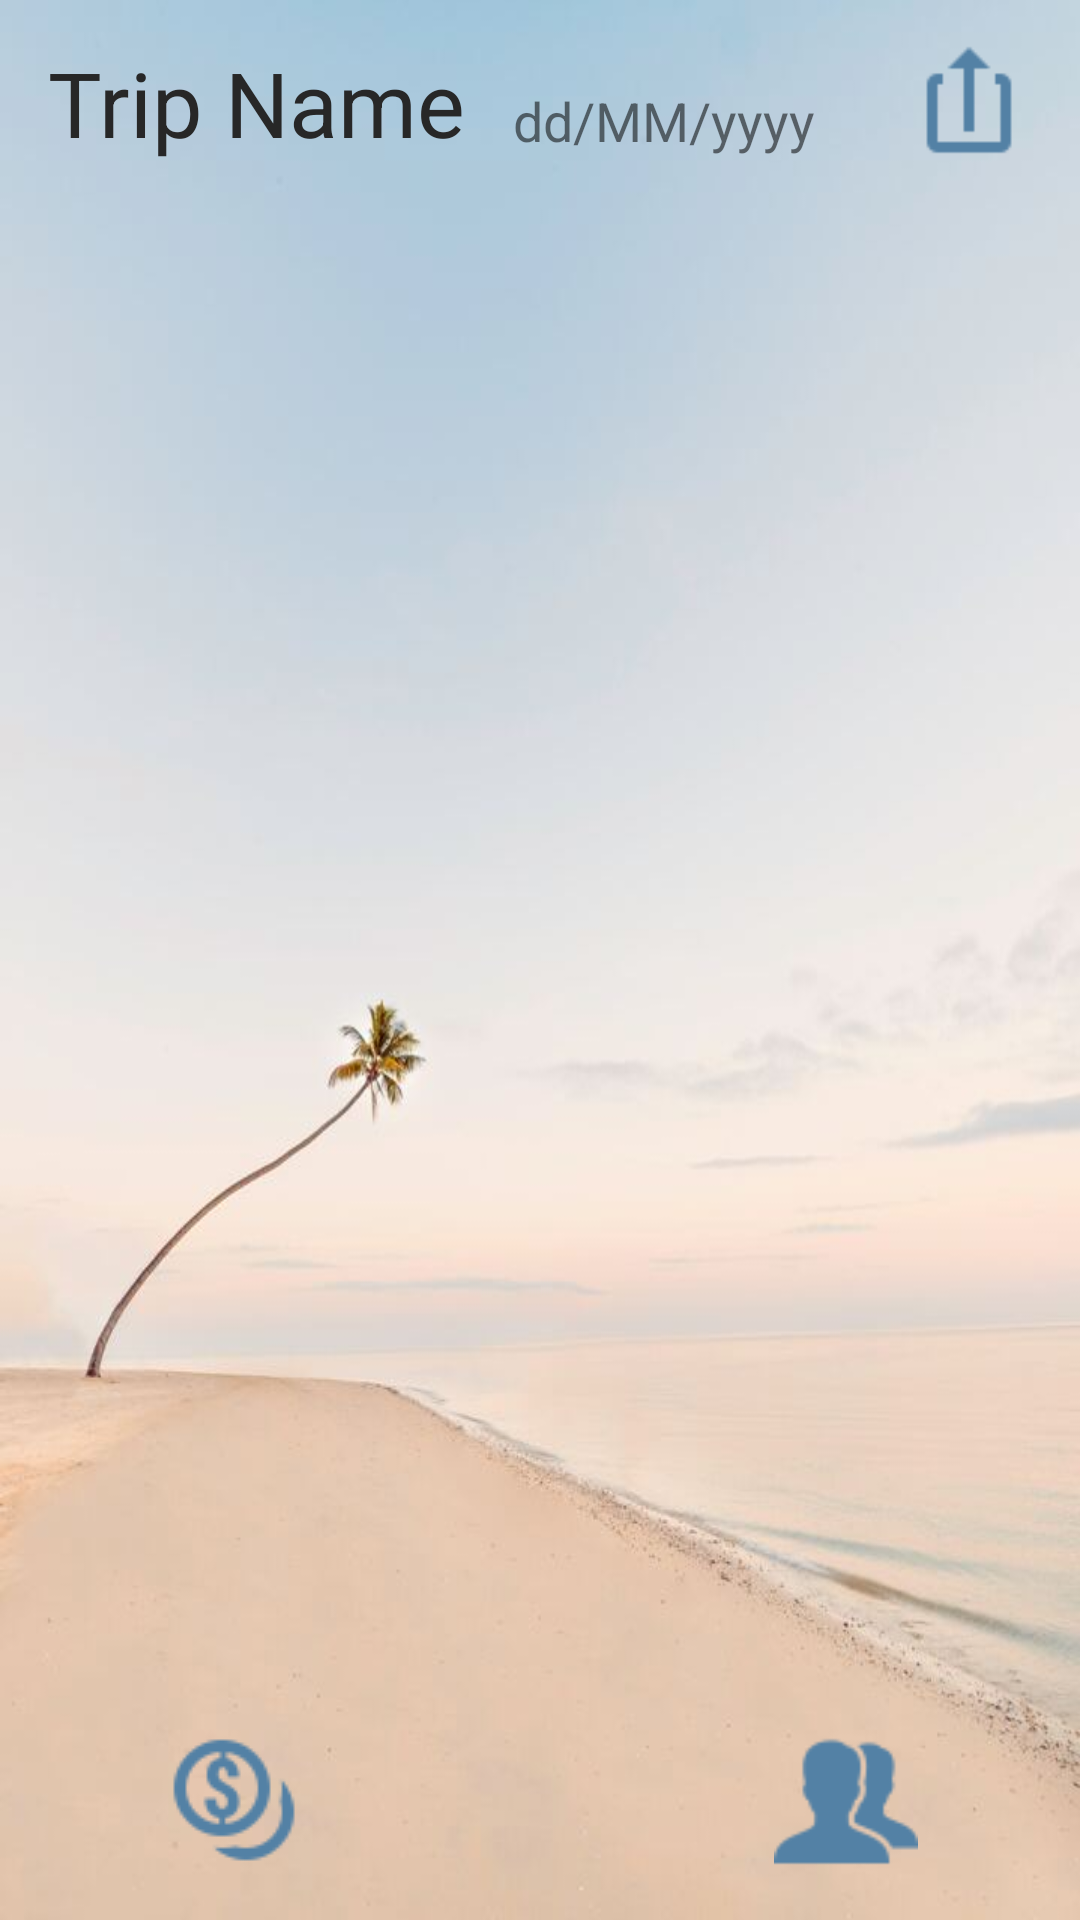

Point at icon controls on the screen. Image size 1080x1920, points as point (x, y).
expense activity: point (234, 1800)
people: point (846, 1801)
share: point (969, 100)
